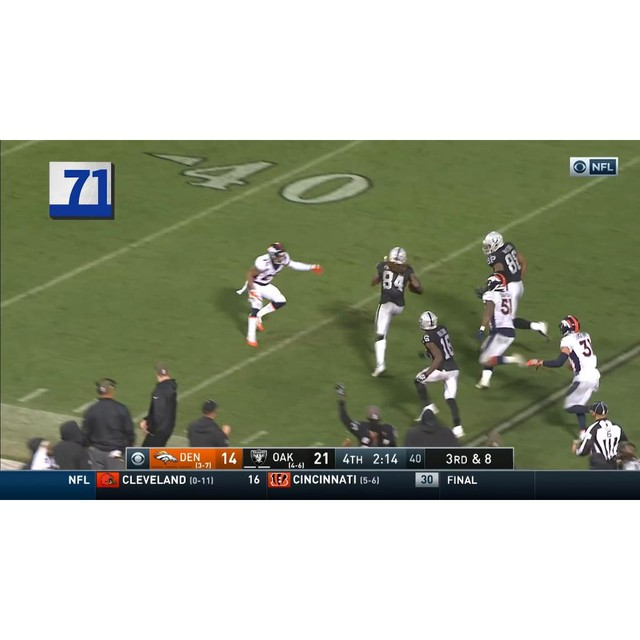american-football-player: (532, 314, 604, 444), (236, 242, 320, 346), (479, 232, 550, 344), (366, 247, 428, 373), (410, 309, 467, 434), (472, 272, 528, 390)
referee: (573, 402, 634, 471)
